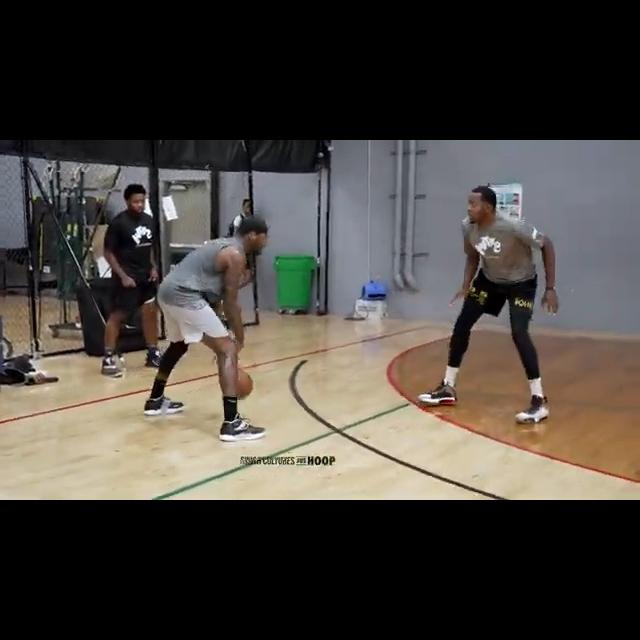basketball: (226, 368, 256, 399)
person: (418, 186, 564, 427), (142, 215, 270, 441), (102, 183, 170, 377), (226, 198, 261, 254)
